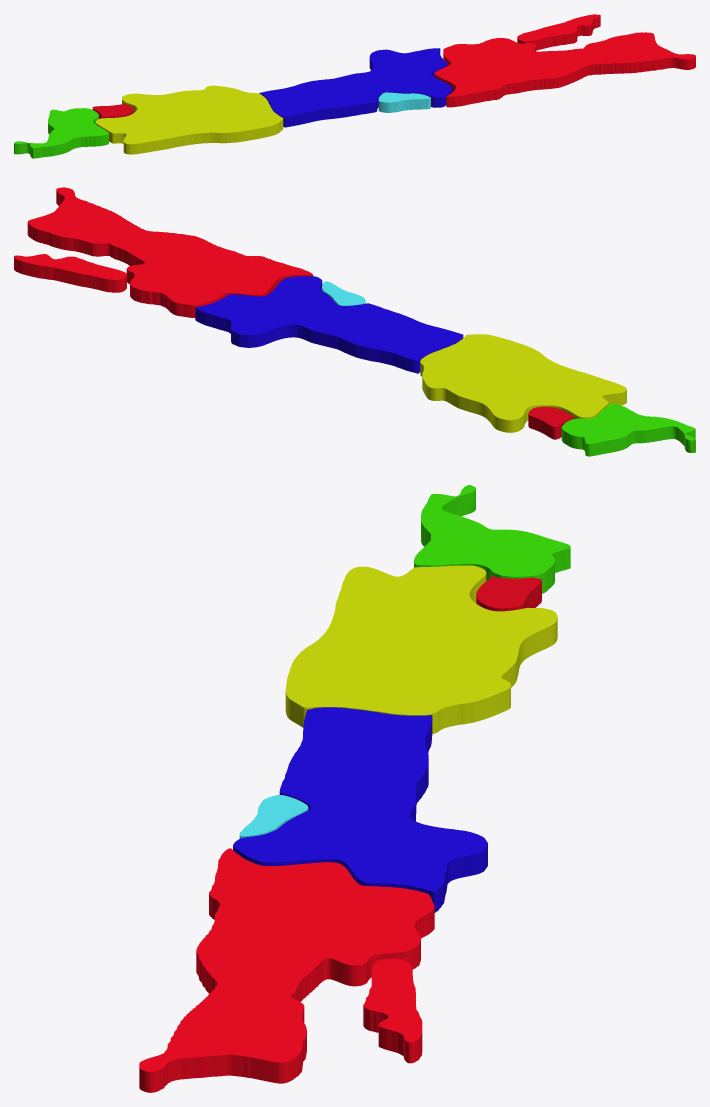
File: jawa map.glb
3 views of the same model, one above another, from view 1: azimuth 30°, elevation 25°; view 2: azimuth 150°, elevation 25°; view 3: azimuth 270°, elevation 25° (orthographic). The views are drawn at different scales.
Visible parts, largest first — view 1: jatim, jabar, jateng, banten, jogja, jakarta; view 2: jatim, jateng, jabar, banten, jakarta, jogja; view 3: jatim, jabar, jateng, banten, jakarta, jogja.
Boxes of the visible parts, <box> form: jatim: <box>434,14,695,107</box>; jabar: <box>96,85,283,154</box>; jateng: <box>259,48,452,127</box>; banten: <box>14,108,108,158</box>; jogja: <box>378,92,430,112</box>; jakarta: <box>92,104,133,118</box>; jatim: <box>14,187,313,317</box>; jateng: <box>195,276,463,373</box>; jabar: <box>420,334,626,432</box>; banten: <box>561,403,695,456</box>; jakarta: <box>528,406,574,439</box>; jogja: <box>322,281,365,305</box>; jatim: <box>139,848,434,1092</box>; jabar: <box>285,565,557,733</box>; jateng: <box>233,707,487,912</box>; banten: <box>414,485,570,593</box>; jakarta: <box>476,576,541,611</box>; jogja: <box>239,795,308,838</box>.
Bounding box in the file's own units: 4.73 × 0.0785 × 1.47.
